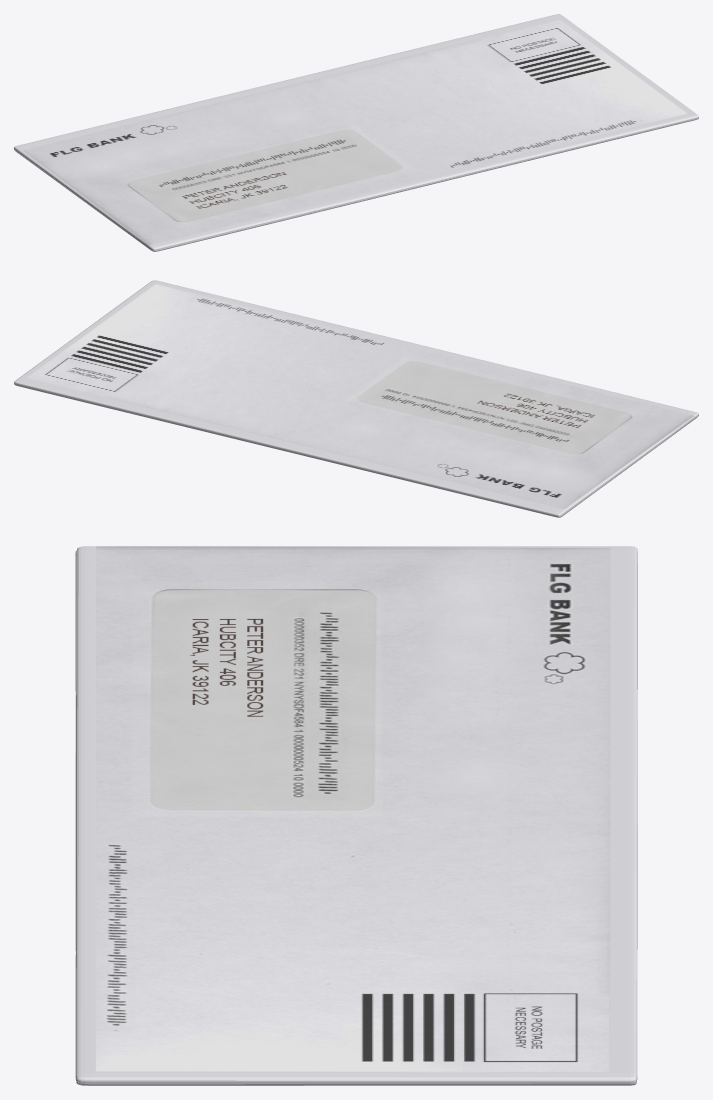
Rendered from Envelope 1 NEW.fbx.
3 renders of one model, top to bottom at view 1: azimuth 30°, elevation 25°; view 2: azimuth 150°, elevation 25°; view 3: azimuth 270°, elevation 25°, orthographic. The views are drawn at different scales.
Parts seen in each view (by area): view 1: Envelope; view 2: Envelope; view 3: Envelope.
Boxes of the visible parts, left/top/right/bottom form: Envelope: left=14, top=14, right=698, bottom=251; Envelope: left=14, top=280, right=698, bottom=517; Envelope: left=75, top=546, right=637, bottom=1085.
Size of the model in its own units: 212 by 1.58 by 94.41.
